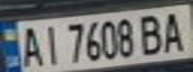0: (100, 17, 121, 61)
6: (81, 18, 103, 62)
7: (63, 19, 84, 64)
8: (115, 16, 139, 58)
A: (157, 8, 190, 53), (15, 24, 45, 69)
B: (136, 11, 169, 56)
I: (36, 21, 63, 66)
